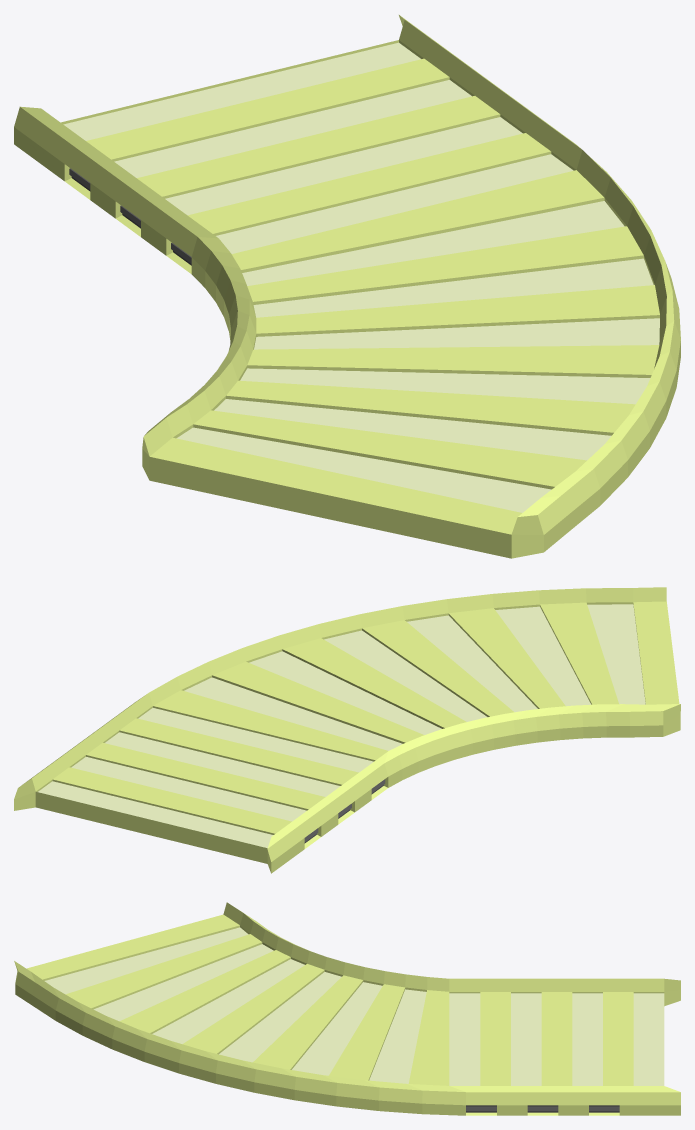
Rendered from Race Course semi curve.fbx.
3 views of the same model, one above another, from view 1: azimuth 30°, elevation 25°; view 2: azimuth 150°, elevation 25°; view 3: azimuth 270°, elevation 25° (orthographic). The views are drawn at different scales.
Visible parts, largest first — view 1: Cube; view 2: Cube; view 3: Cube.
Part boxes in pixels (box(x1,y1,x2,y2)): Cube: box(14, 15, 680, 558); Cube: box(14, 587, 680, 873); Cube: box(14, 902, 680, 1115).
Bounding box in the file's own units: 1201 × 77.16 × 1804.
